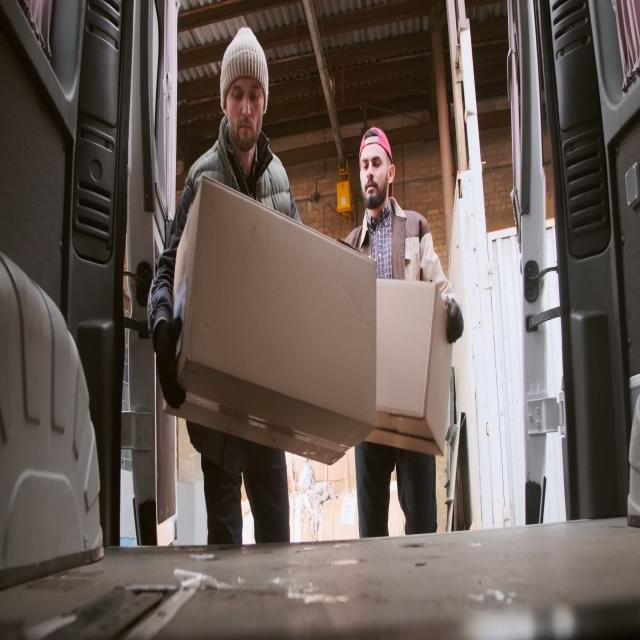counting-the-number-of-boxes: (162, 178, 377, 466), (363, 277, 454, 457)
